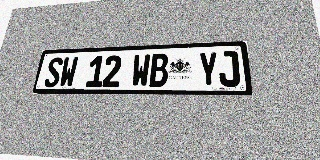1: (86, 56, 106, 87)
2: (102, 55, 122, 87)
B: (149, 53, 168, 87)
J: (218, 51, 240, 87)
S: (43, 57, 64, 87)
W: (58, 57, 79, 87), (131, 54, 150, 87)
Y: (198, 52, 219, 87)
